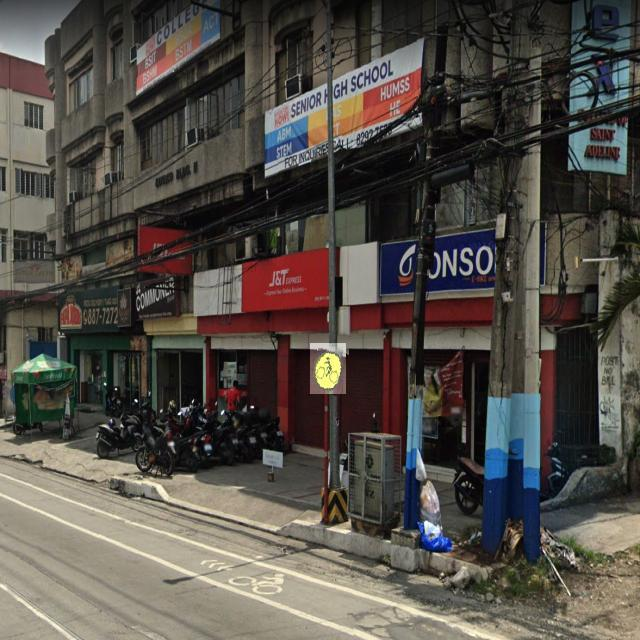bike lane: (311, 343, 347, 394)
